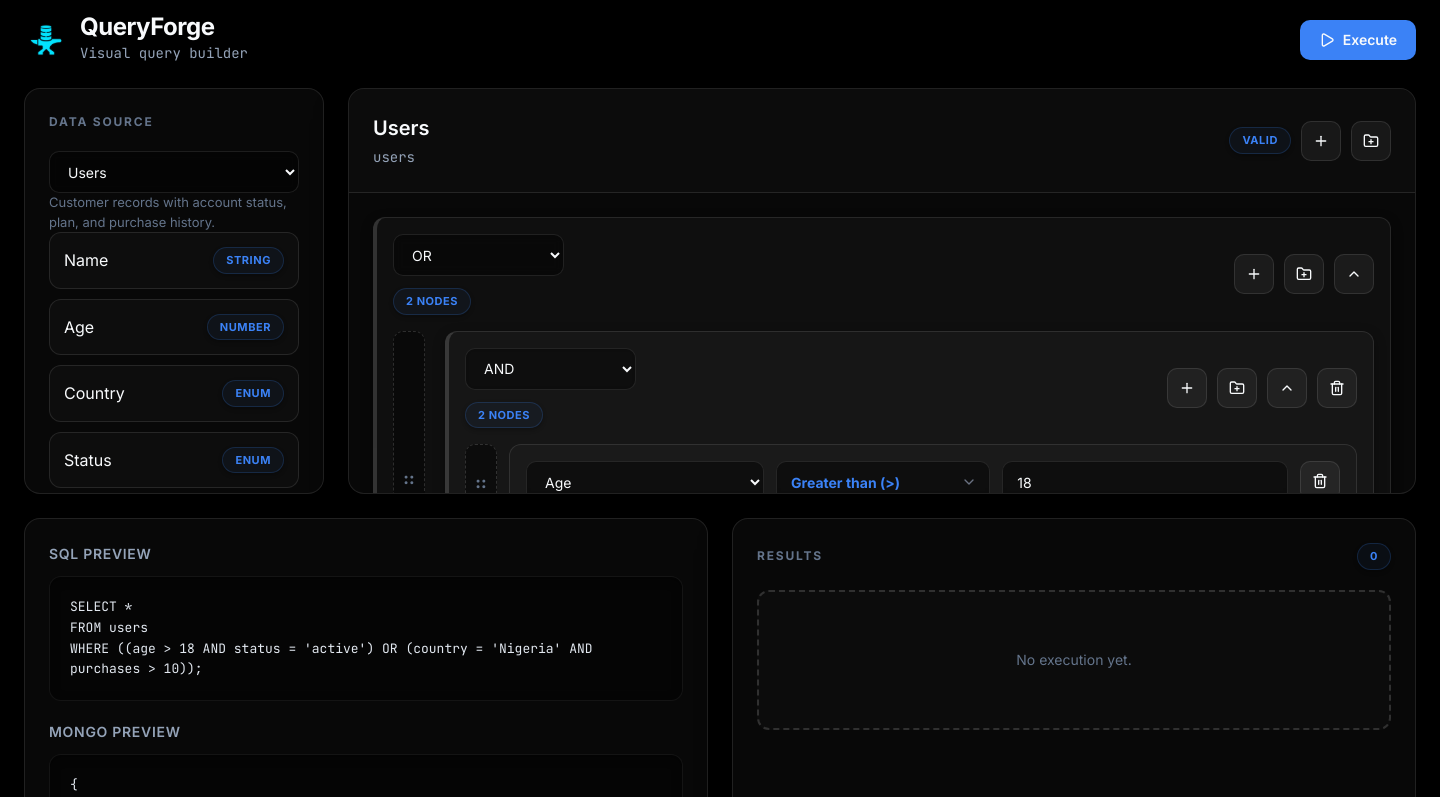
Test case: QueryBuilderShell › executes the visual query and renders matching rows
Click the button "Execute" at [1358, 40], box [1300,20,1416,60]
(page scrolled)
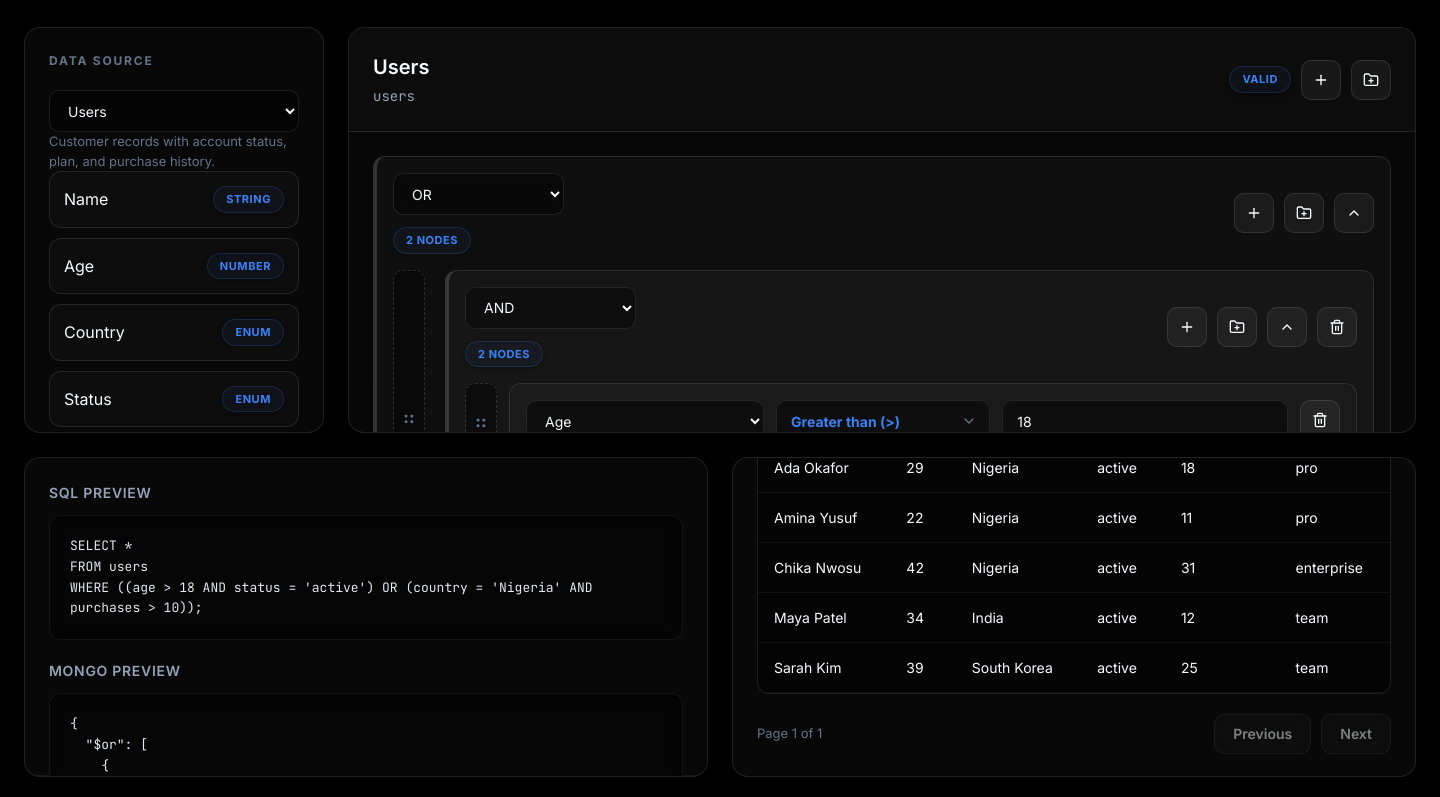
Result: the text "Maya Patel" is shown at [758,592,890,642]
